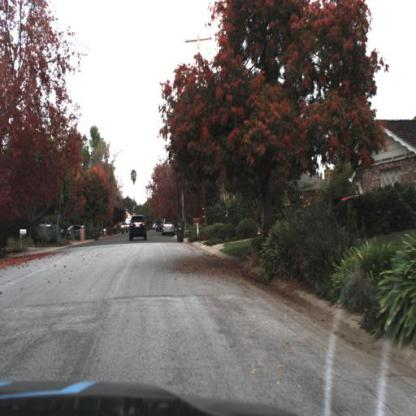car: (126, 212, 148, 243), (162, 217, 174, 235)
